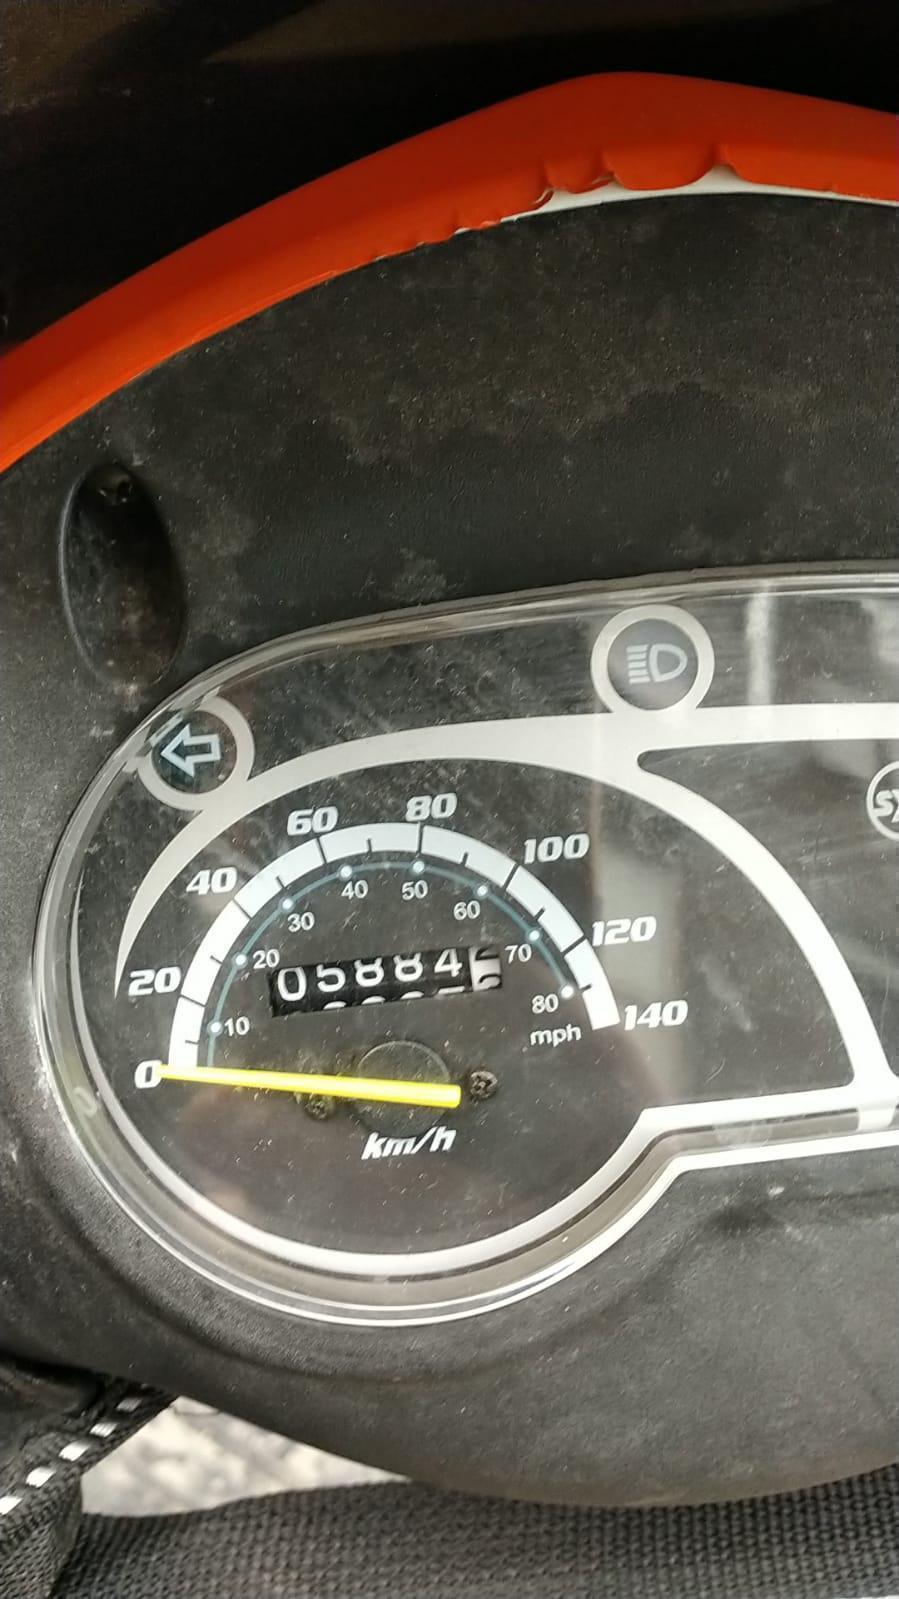0: (276, 964, 308, 1002), (265, 948, 280, 968)
2: (473, 931, 501, 961)
4: (432, 944, 463, 977)
5: (315, 957, 346, 993)
8: (391, 944, 423, 983), (353, 949, 384, 987)
odometer: (265, 942, 502, 1020)
